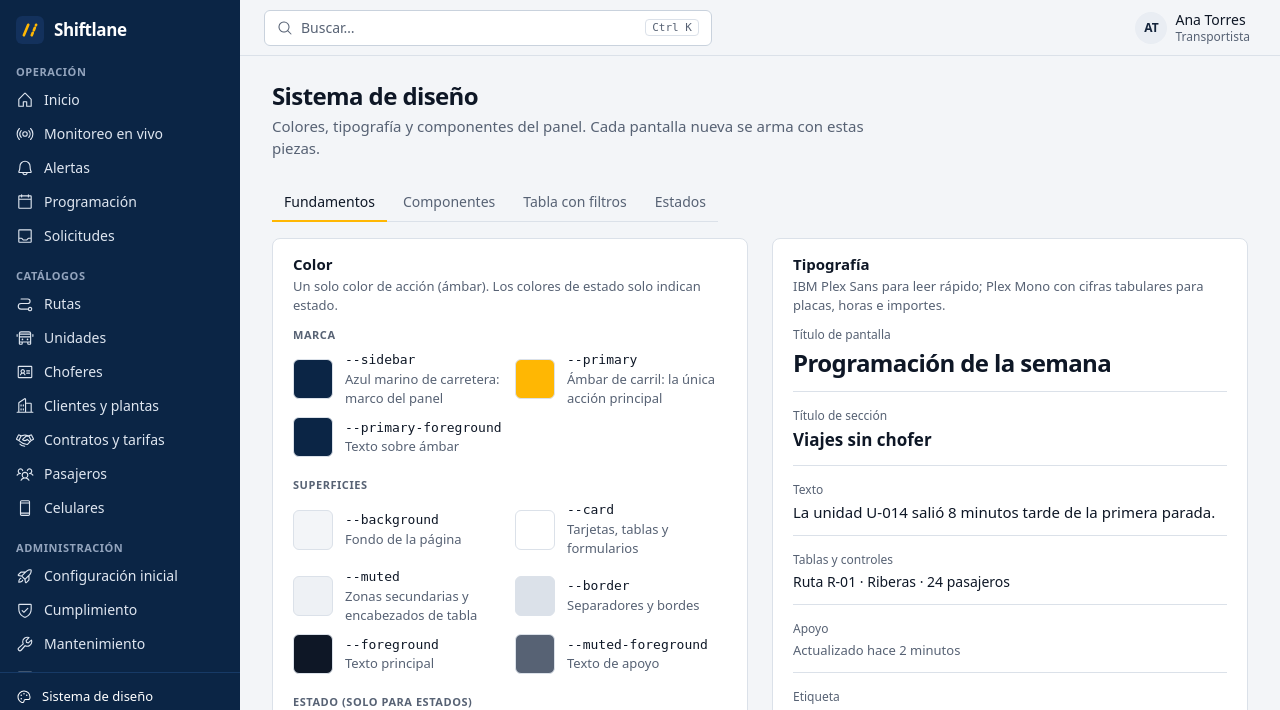
Test: sistema de diseño › diálogo de confirmación
This screenshot has width=1280, height=710.
Click the tab "Componentes" at (449, 202), box [391,184,507,222]
(page scrolled)
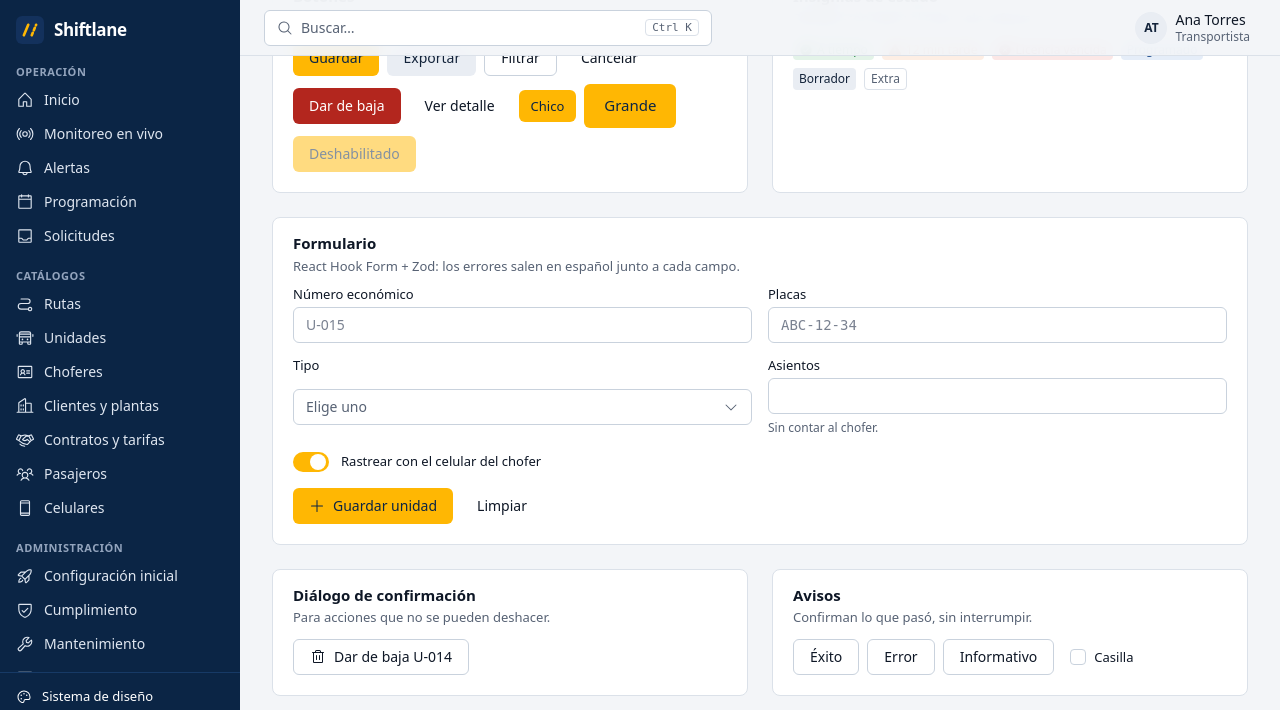
Click the button "Dar de baja U-014" at (381, 657), box [293,639,469,675]
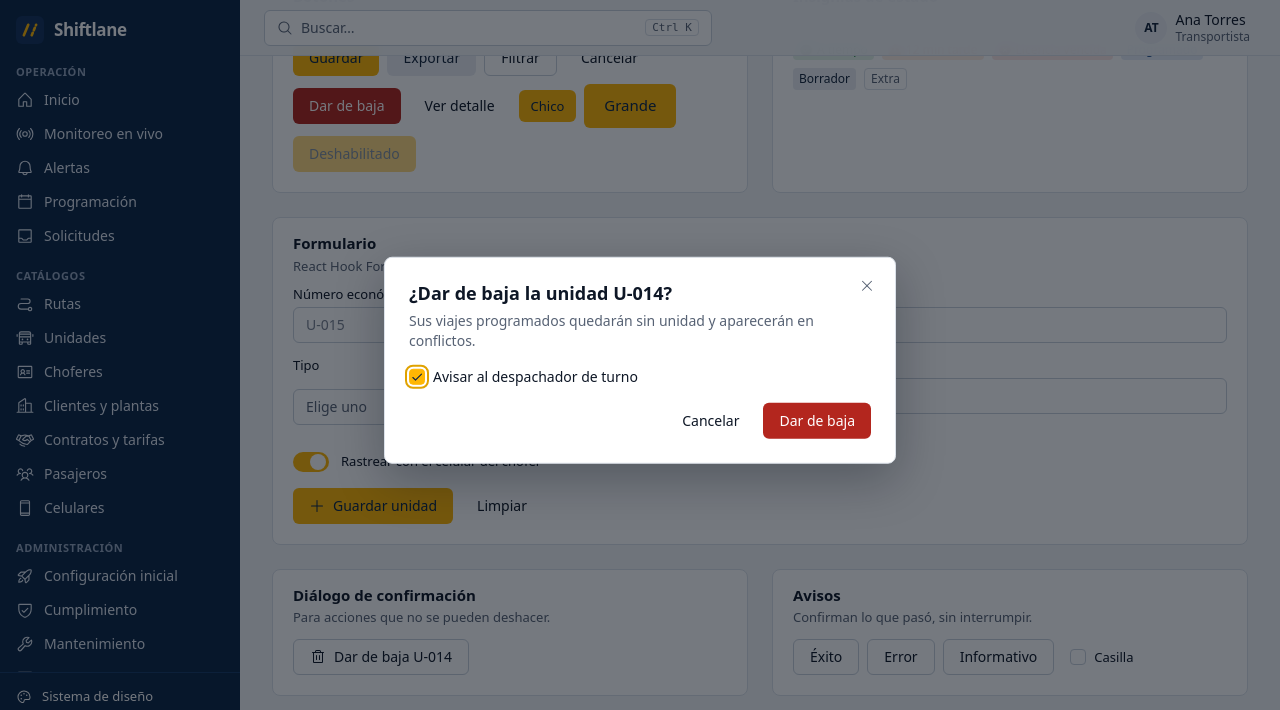
Expected: the dialog "¿Dar de baja la unidad U-014?" is shown, [384,257,896,463]
Click the button "Dar de baja" at (817, 420), box [763,402,871,438]
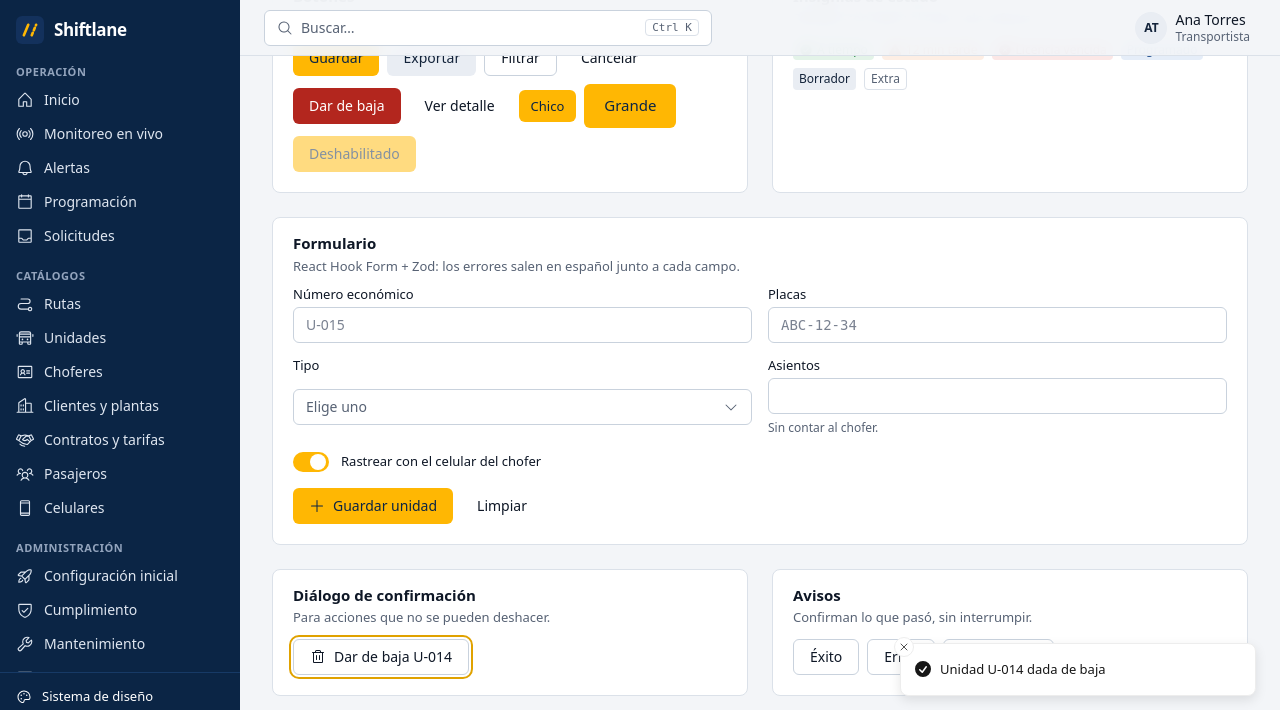
Expected: the text "Unidad U-014 dada de baja" is shown, [940,660,1106,679]
